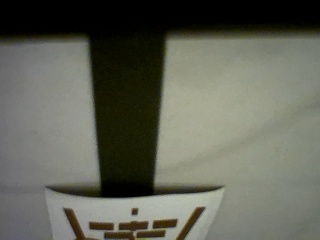Clearing_Zone: (62, 206, 206, 240)
